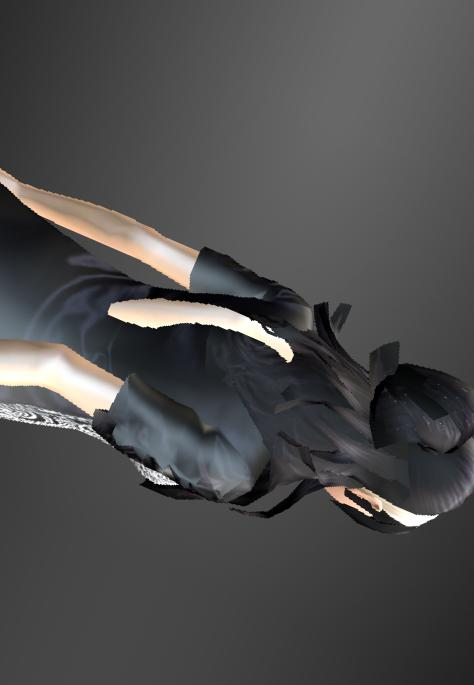clip: (104, 289, 254, 337)
